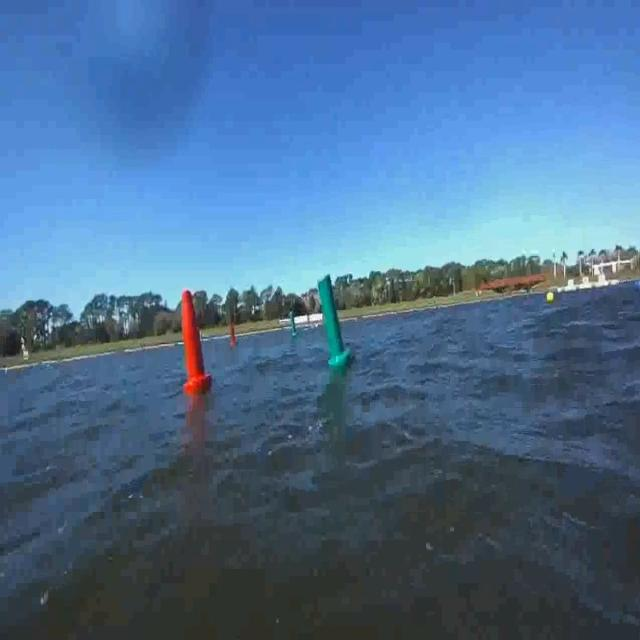green-column-buoy: (315, 274, 353, 367), (289, 315, 298, 339)
red-column-buoy: (178, 289, 211, 393), (229, 324, 236, 347)
yellow-buoy: (548, 289, 556, 305)
